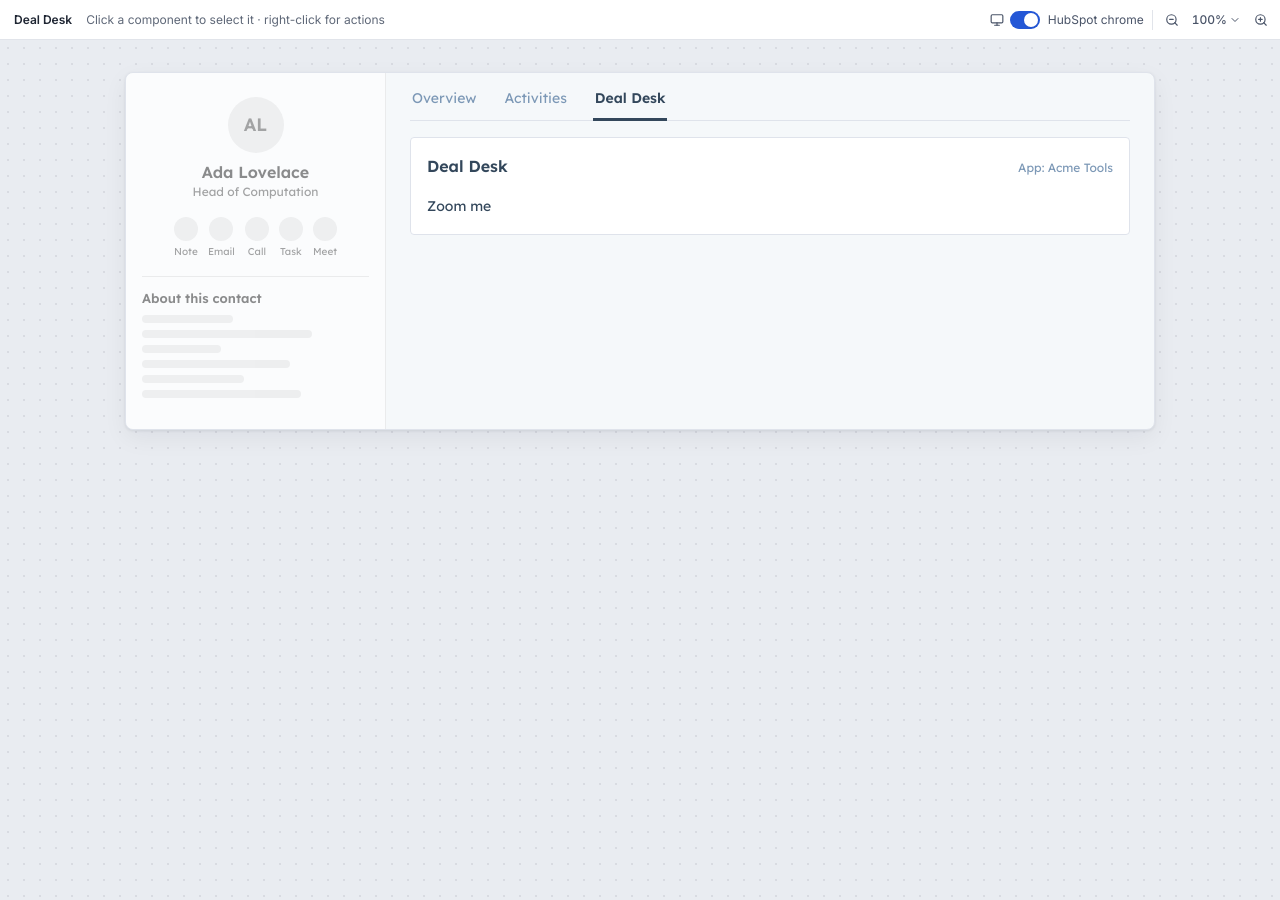
Test: Canvas frame › zoom control steps through zoom levels
The width and height of the screenshot is (1280, 900).
Expected: the button named "Zoom level 100%" is shown, [1185,8,1248,32]
Click the button named "Zoom in": (1261, 20) [1250,8,1272,30]
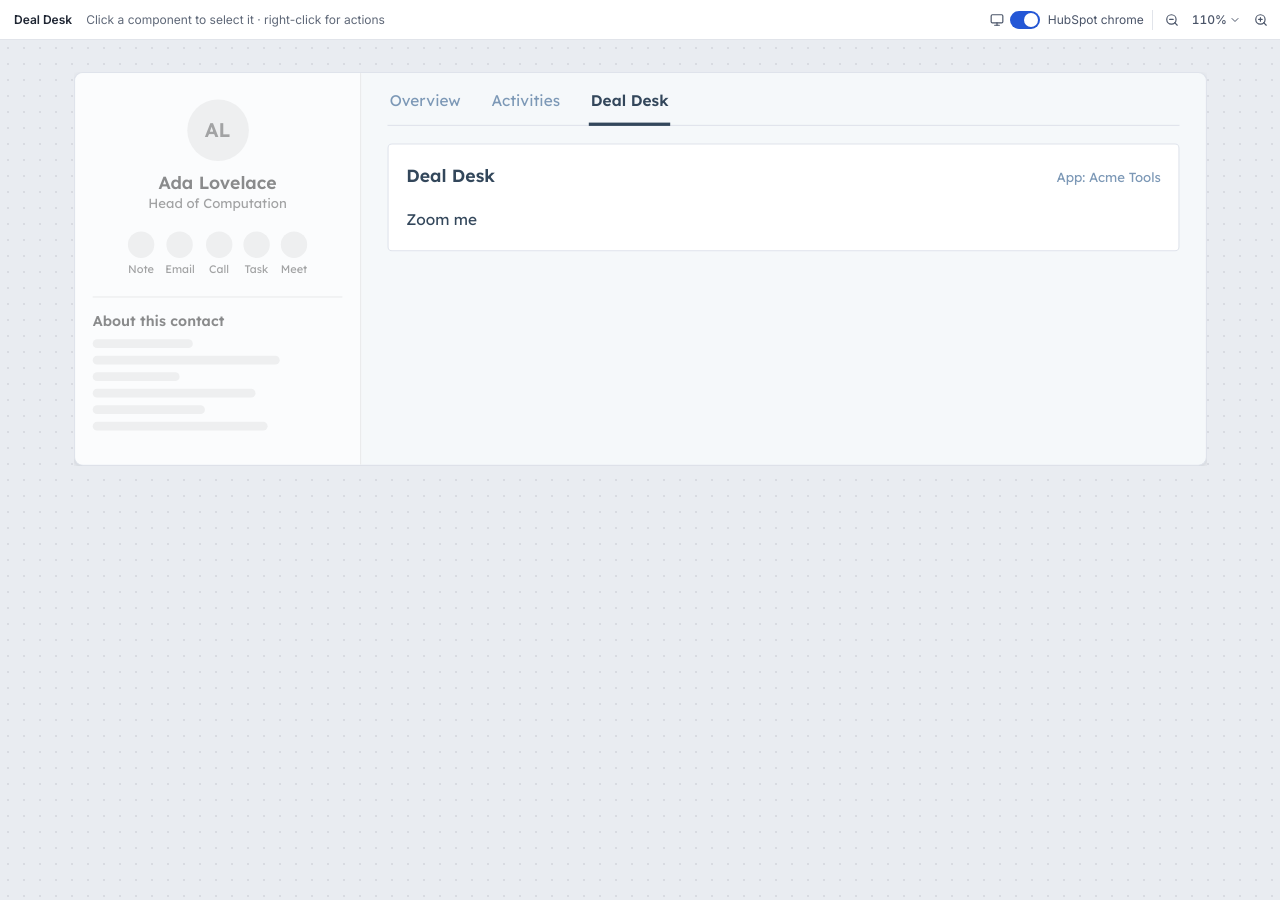
Now the button named "Zoom level 110%" is shown, box [1185,8,1248,32]
Click the button named "Zoom out": (1172, 20) [1161,8,1183,30]
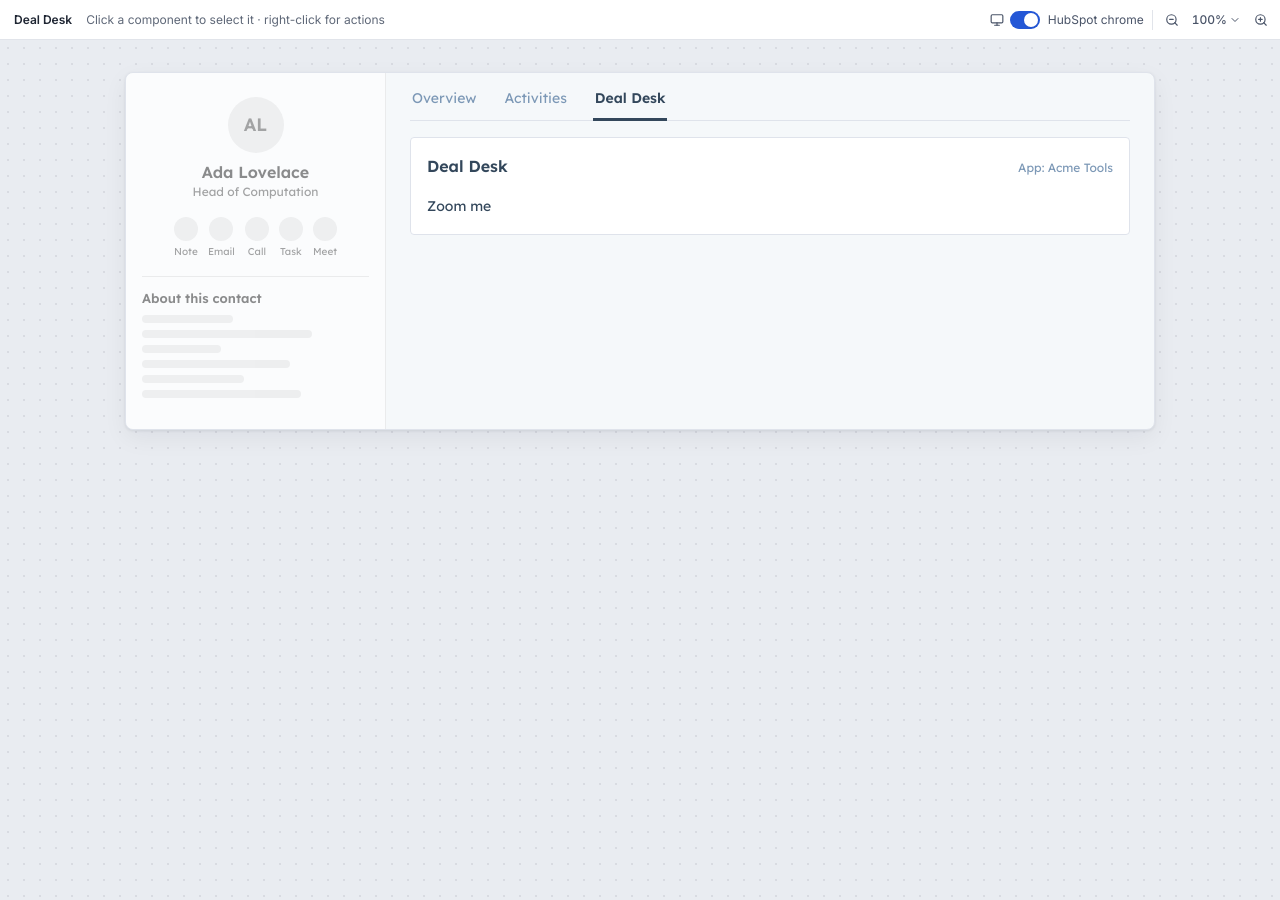
Click the button named "Zoom out": (1172, 20) [1161,8,1183,30]
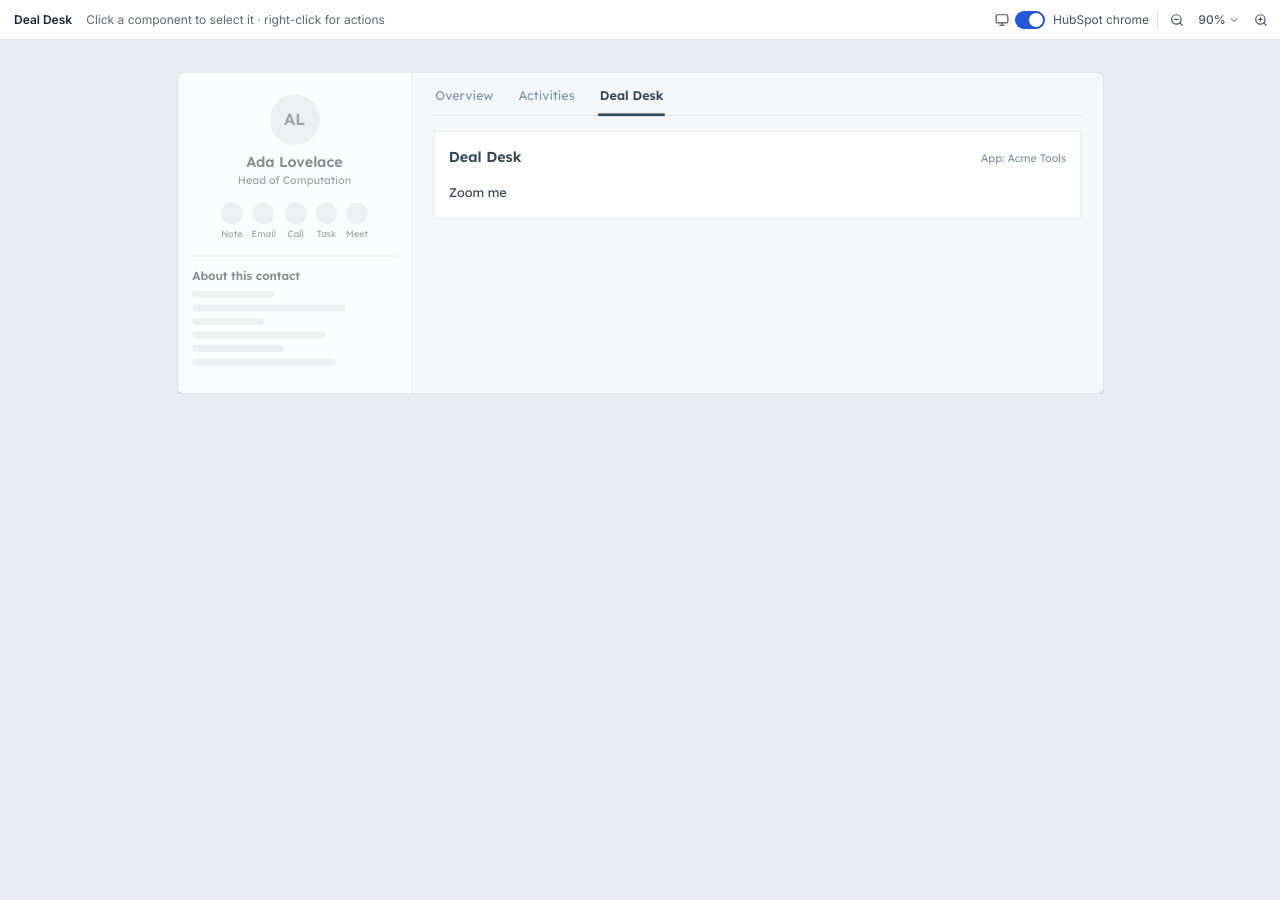
Now the button named "Zoom level 90%" is shown
Click the button named "Zoom level 90%": (1219, 20) [1190,8,1248,32]
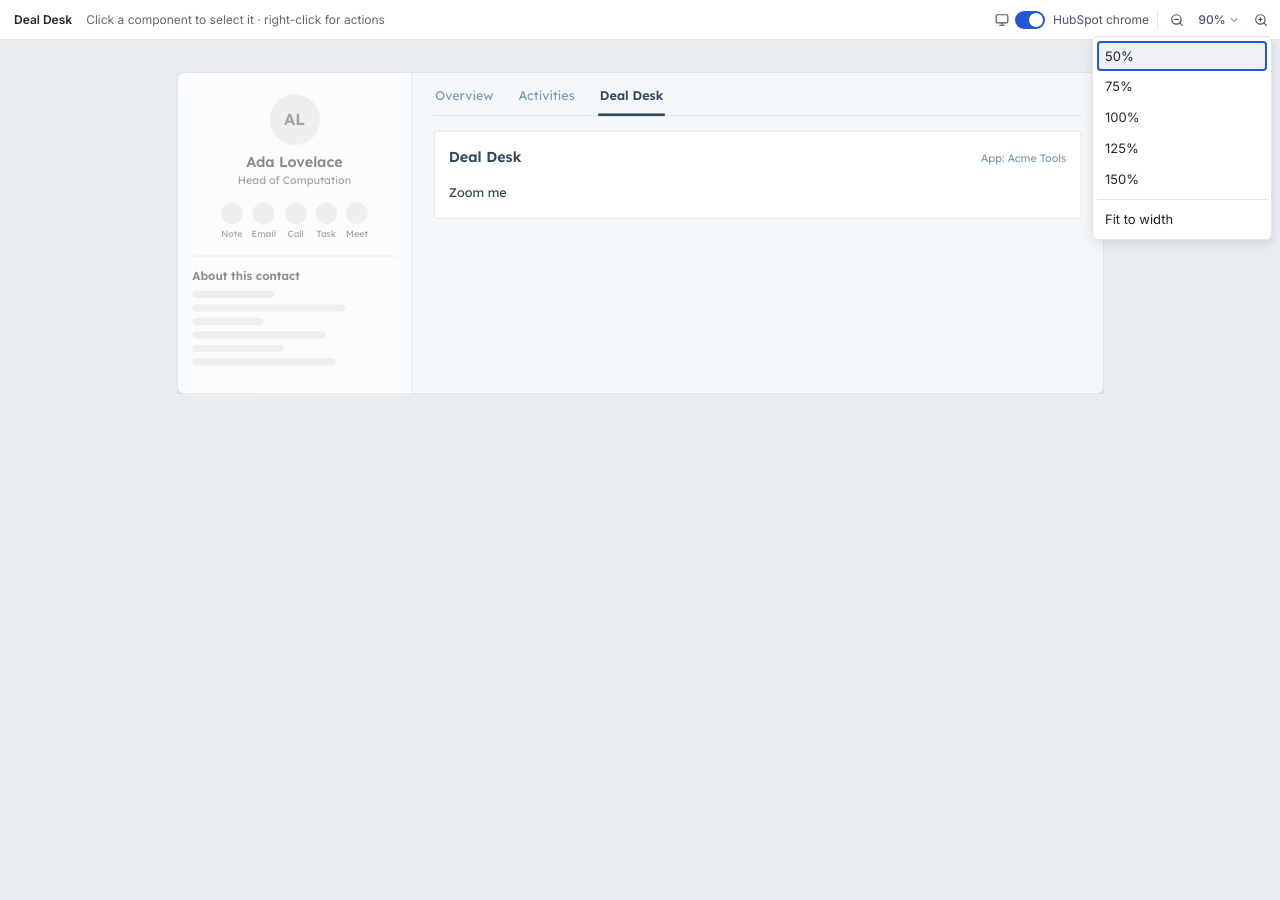
Click the menu item "150%": (1182, 179) [1097,164,1267,195]
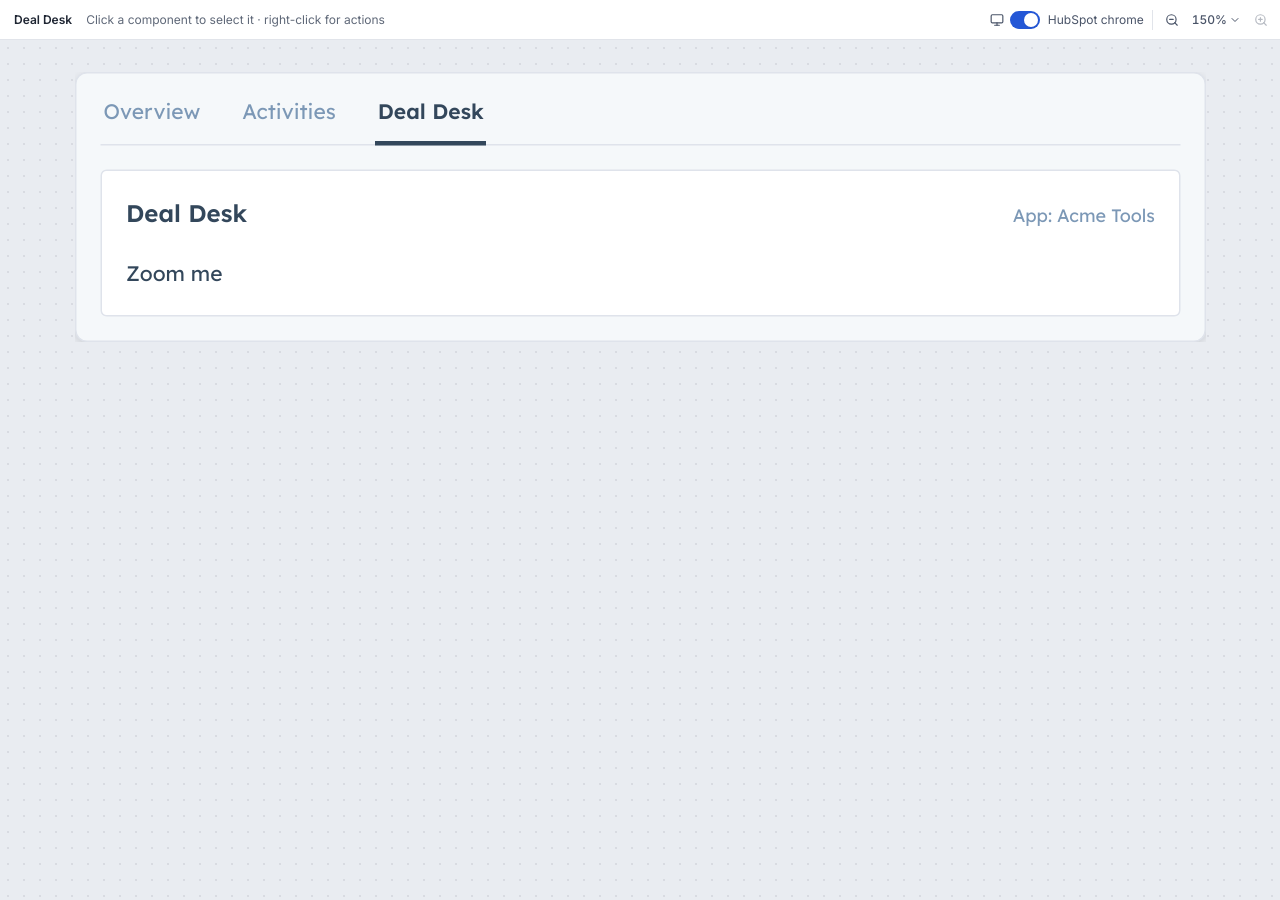
Now the button named "Zoom level 150%" is shown, box [1185,8,1248,32]
Now the button named "Zoom in" is disabled, box [1250,8,1272,30]
